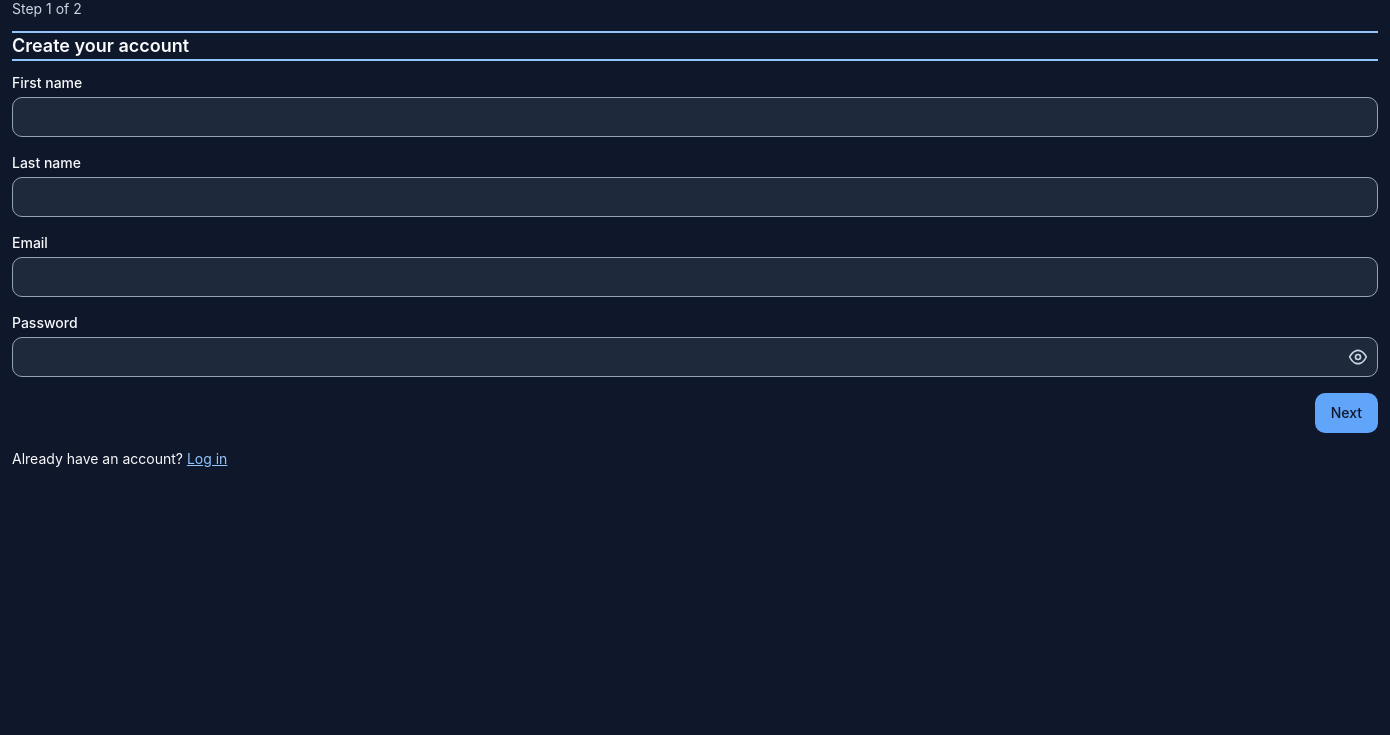
Test: MT-01 registration wizard › moves to step 2 only after step 1 validates, and back preserves the values
expect the heading "Create your account" is shown: met, box [12,35,189,56]
Type "Ada" into the field labelled "First name".
click(695, 117); type("Ada")  # box [12,97,1378,137]
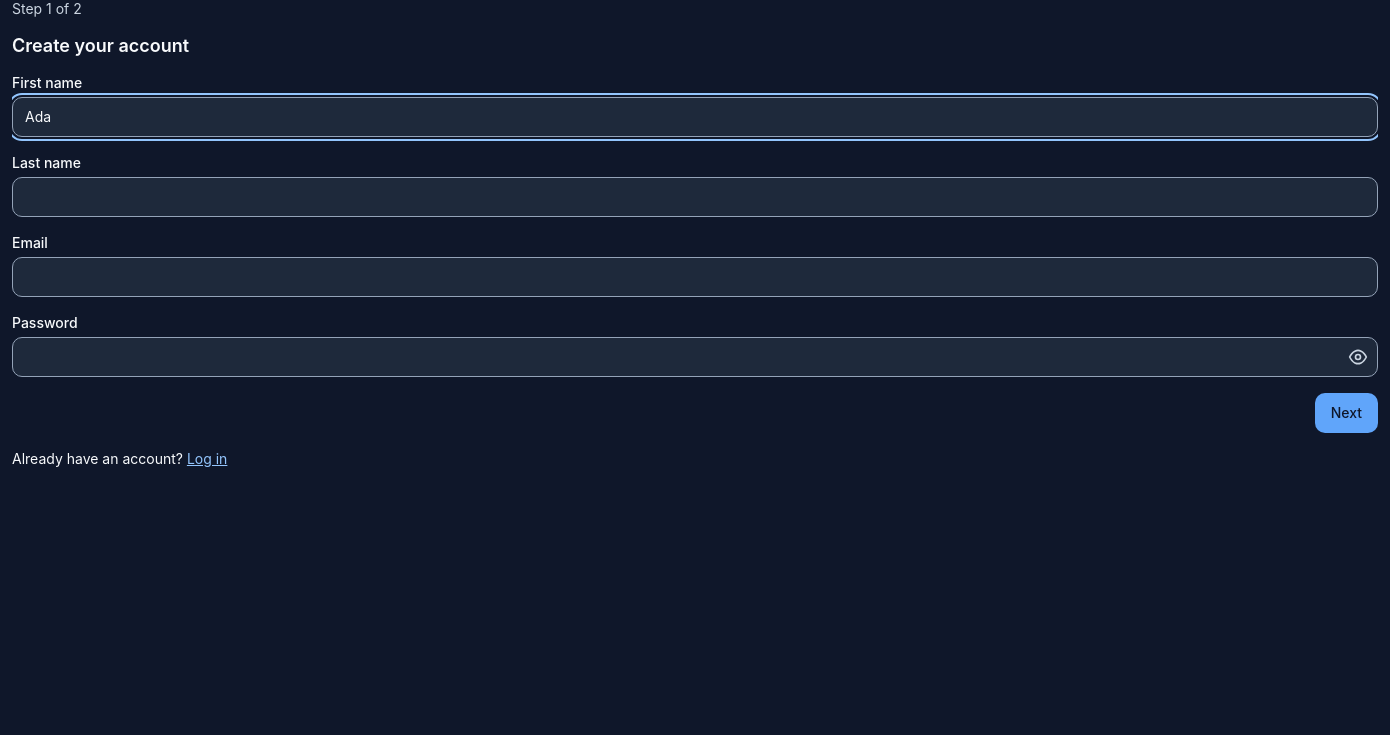
Type "Lovelace" into the field labelled "Last name".
click(695, 197); type("Lovelace")  # box [12,177,1378,217]
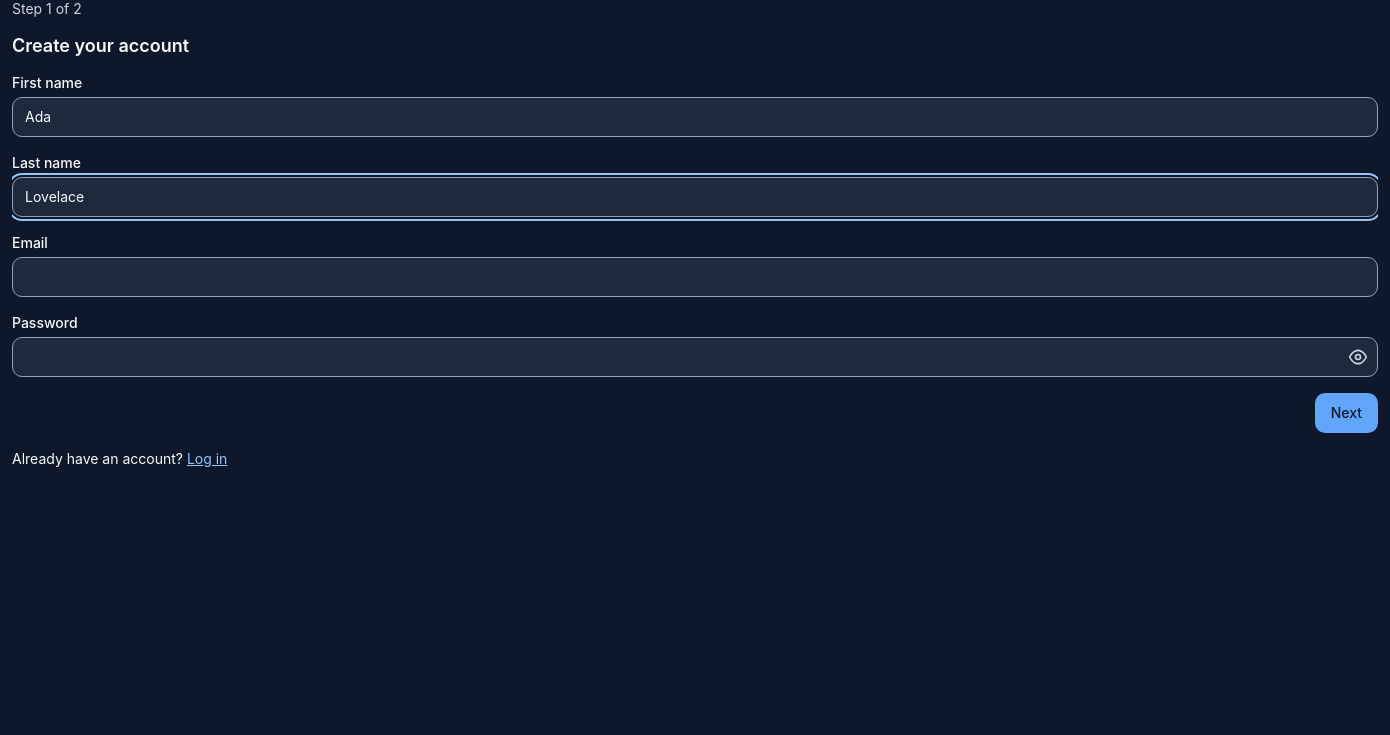
Type "ada@example.com" into the field labelled "Email".
click(695, 277); type("ada@example.com")  # box [12,257,1378,297]
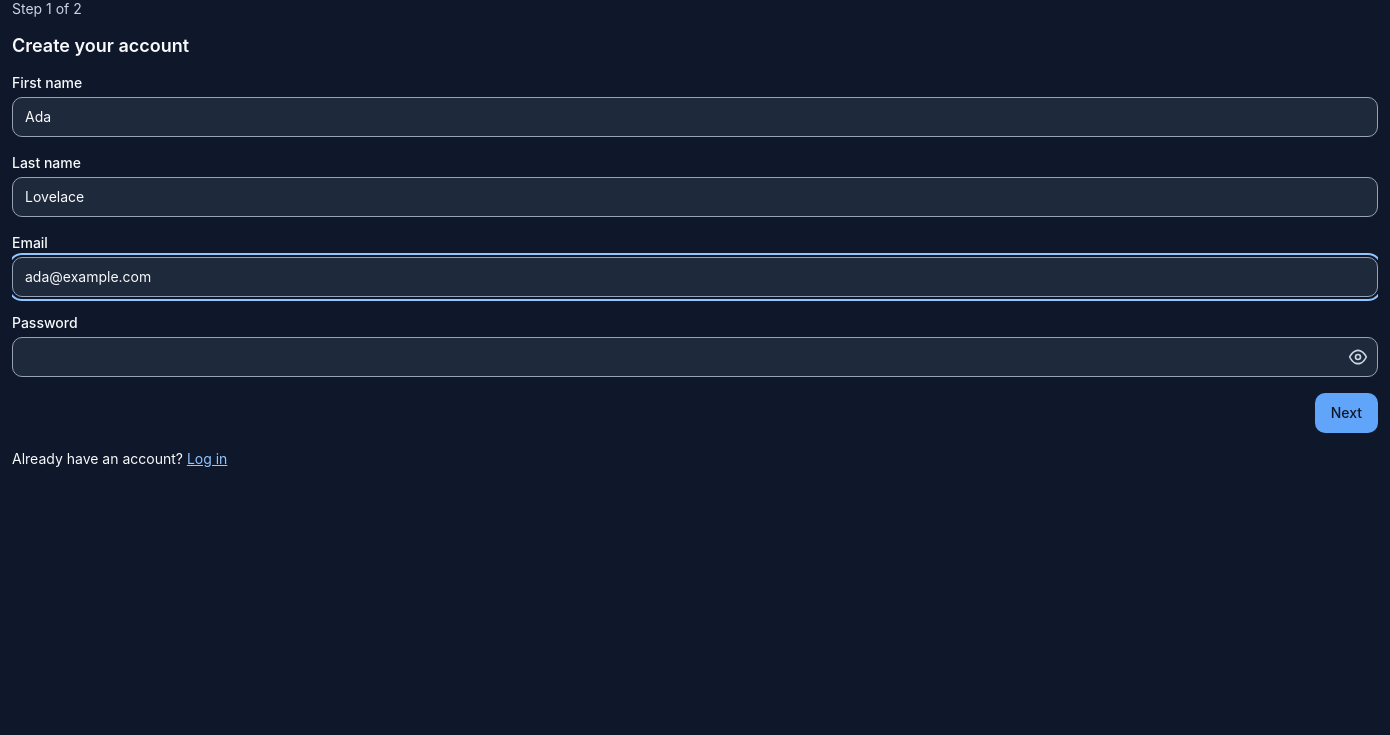
Type "password123456" into the password field labelled "Password".
click(695, 357); type("password123456")  # box [12,337,1378,377]
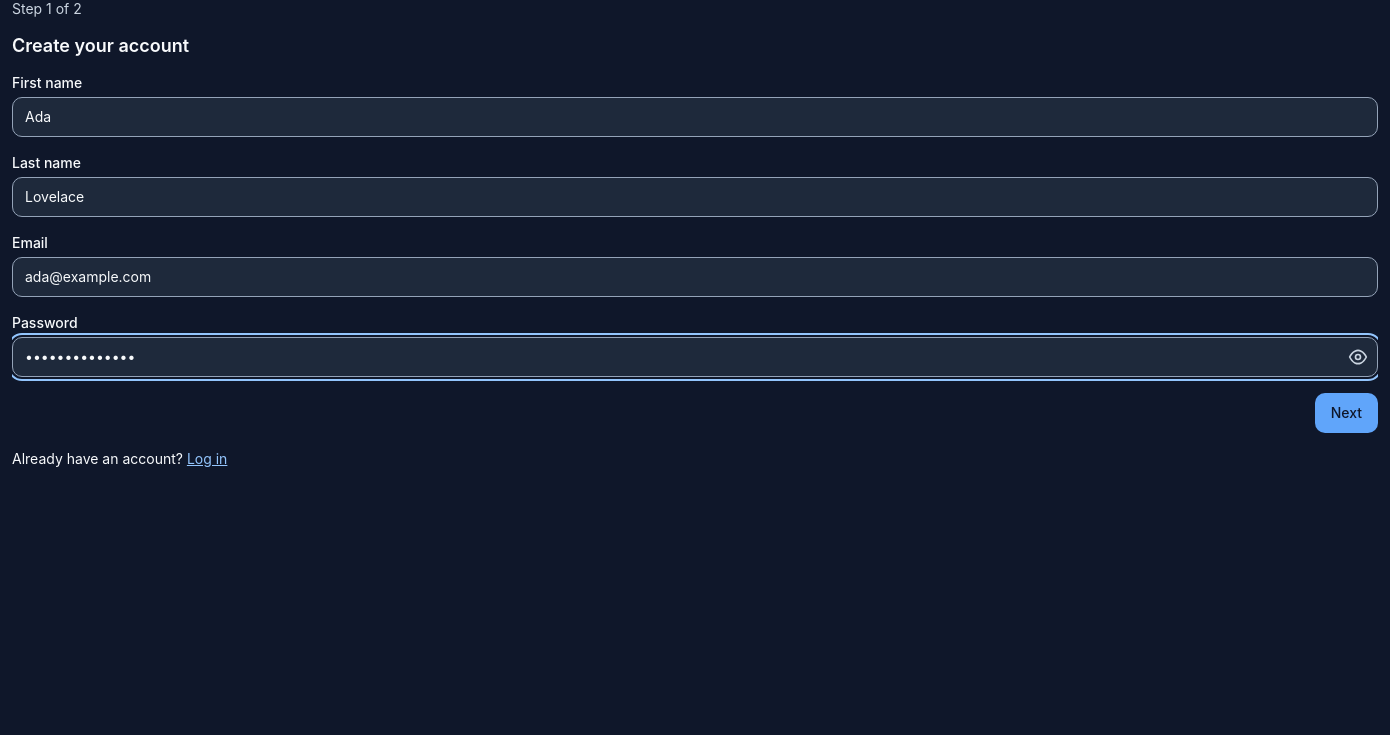
Click the button "Next".
click(1346, 413)  # box [1315,393,1378,433]
(page scrolled)
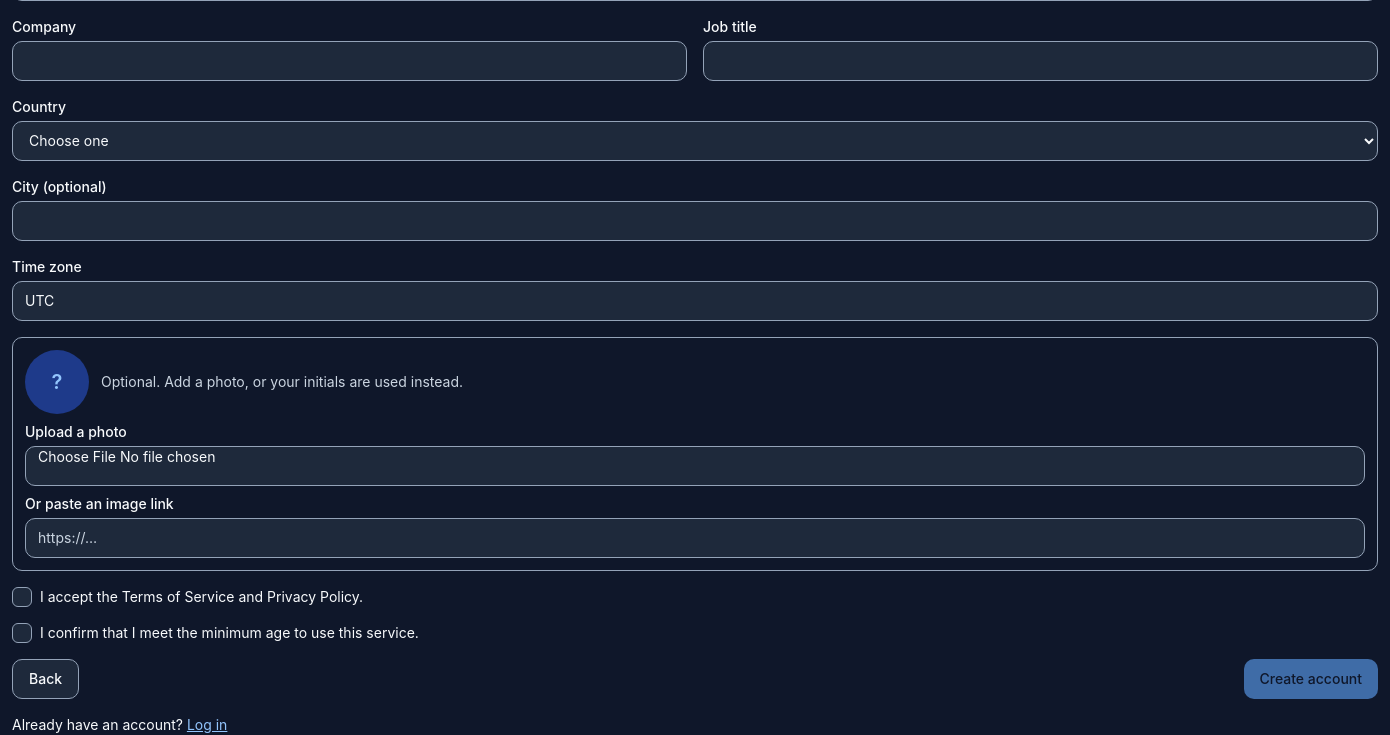
Click the button "Back".
click(46, 679)  # box [12,659,79,699]
(page scrolled)
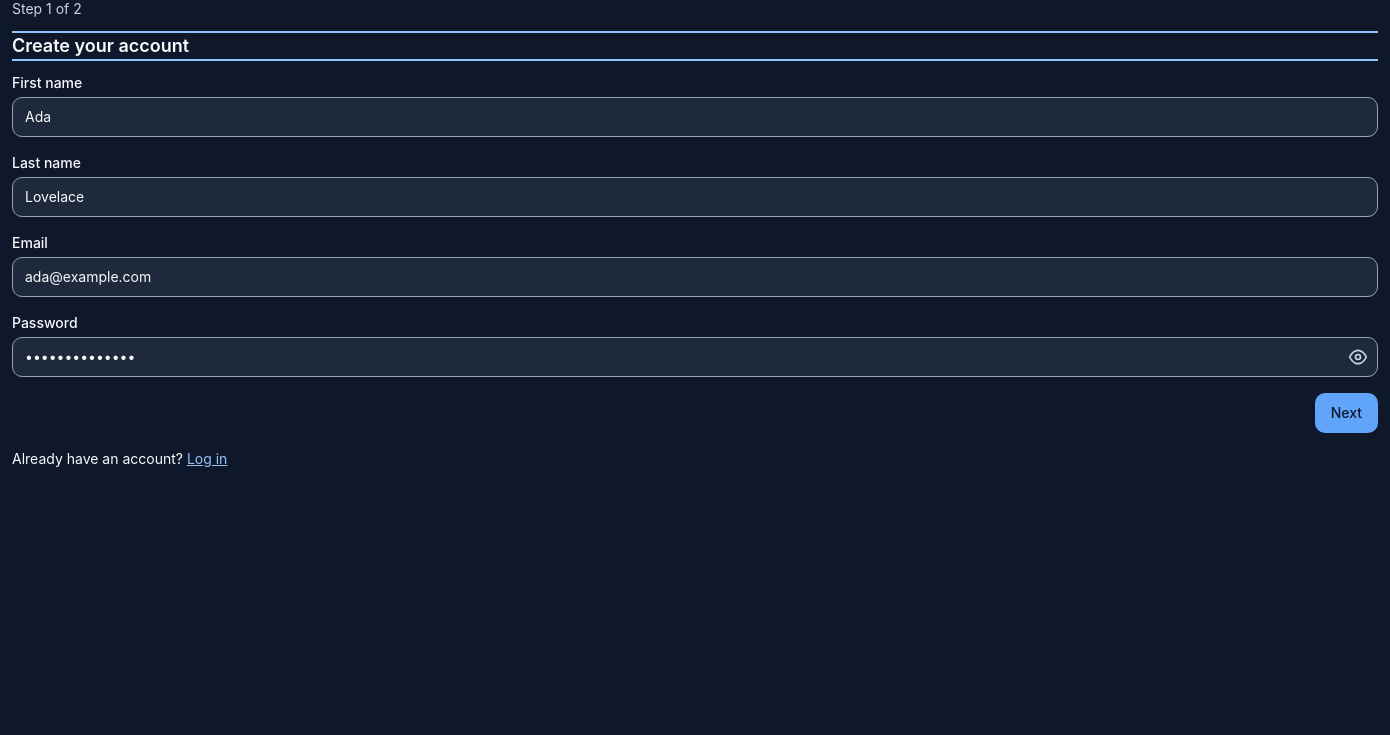
expect the heading "Create your account" is shown: met, box [12,35,189,56]
expect the field labelled "First name" holds "Ada": met, box [12,97,1378,137]
